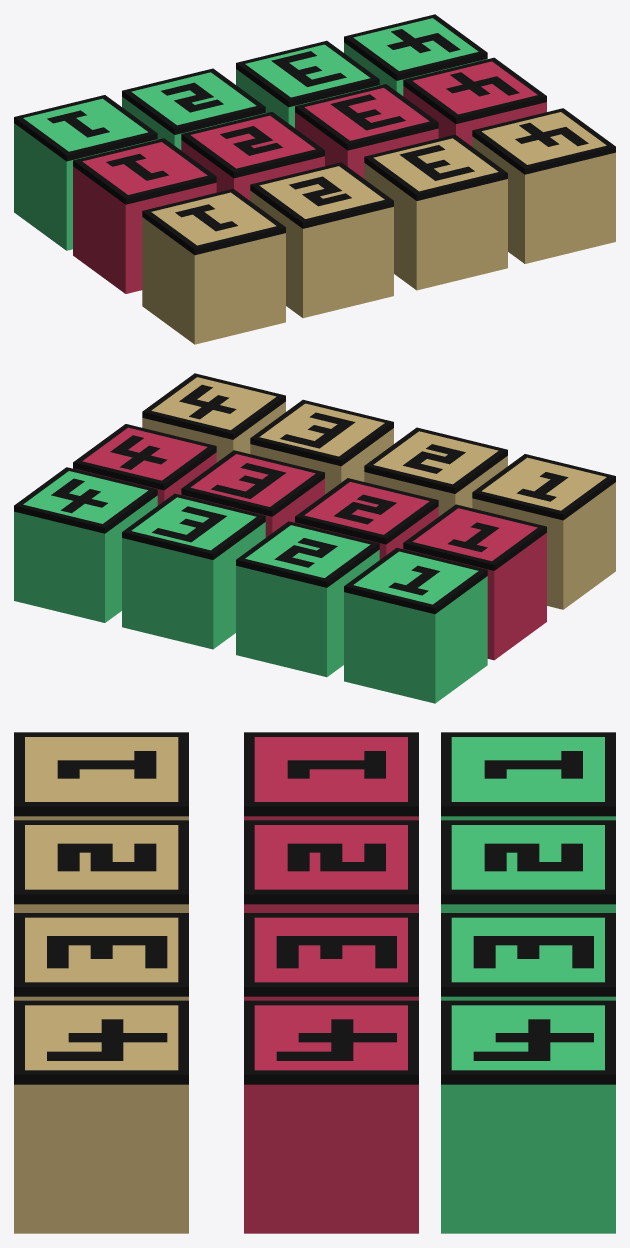
Rendered from power_icons.dae.
3 renders of one model, top to bottom at view 1: azimuth 30°, elevation 25°; view 2: azimuth 150°, elevation 25°; view 3: azimuth 270°, elevation 25°, orthographic. The views are drawn at different scales.
Parts seen in each view (by area): view 1: Box_19, Box_17, Box_18, Box_16, Box_15, Box_11, Box_13, Box_12, Box_14, Box_5, Box_8, Box; view 2: Box_11, Box_5, Box_8, Box, Box_19, Box_15, Box_17, Box_18, Box_16, Box_13, Box_12, Box_14; view 3: Box, Box_12, Box_16, Box_8, Box_14, Box_18, Box_11, Box_15, Box_19, Box_5, Box_13, Box_17.
Part boxes in pixels (x1,y1,x2,y2): Box_19: (142, 189, 285, 344); Box_17: (364, 134, 507, 290); Box_18: (250, 162, 393, 318); Box_16: (472, 108, 615, 263); Box_15: (73, 138, 216, 293); Box_11: (14, 95, 157, 250); Box_13: (295, 84, 438, 178); Box_12: (403, 57, 546, 146); Box_14: (181, 112, 324, 200); Box_5: (236, 40, 379, 127); Box_8: (122, 68, 265, 150); Box: (344, 14, 487, 95); Box_11: (344, 548, 487, 703); Box_5: (122, 493, 265, 649); Box_8: (236, 521, 379, 677); Box: (14, 467, 157, 622); Box_19: (472, 454, 615, 609); Box_15: (403, 504, 546, 660); Box_17: (250, 399, 393, 494); Box_18: (364, 427, 507, 516); Box_16: (142, 373, 285, 462); Box_13: (181, 450, 324, 537); Box_12: (73, 424, 216, 505); Box_14: (295, 478, 438, 559); Box: (441, 1000, 615, 1233); Box_12: (244, 1000, 418, 1233); Box_16: (14, 1000, 188, 1233); Box_8: (441, 820, 615, 912); Box_14: (244, 820, 418, 912); Box_18: (14, 820, 188, 912); Box_11: (441, 732, 615, 820); Box_15: (244, 732, 418, 820); Box_19: (14, 732, 188, 820); Box_5: (441, 913, 615, 1000); Box_13: (244, 913, 418, 1000); Box_17: (14, 913, 188, 1000).
Size of the model in its own units: 74 by 16 by 55.
